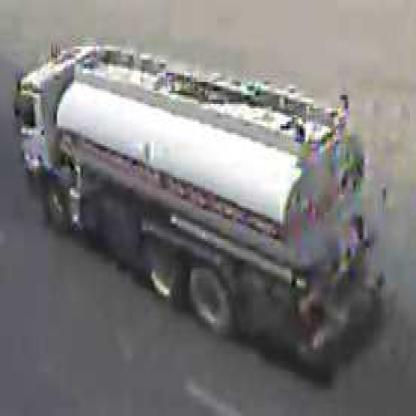truck: (18, 54, 370, 355)
